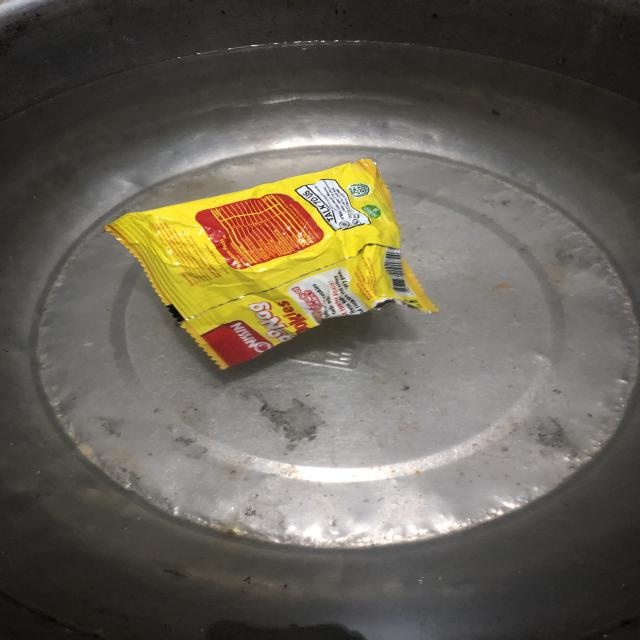Plastic Wrapper: (105, 158, 438, 369)
